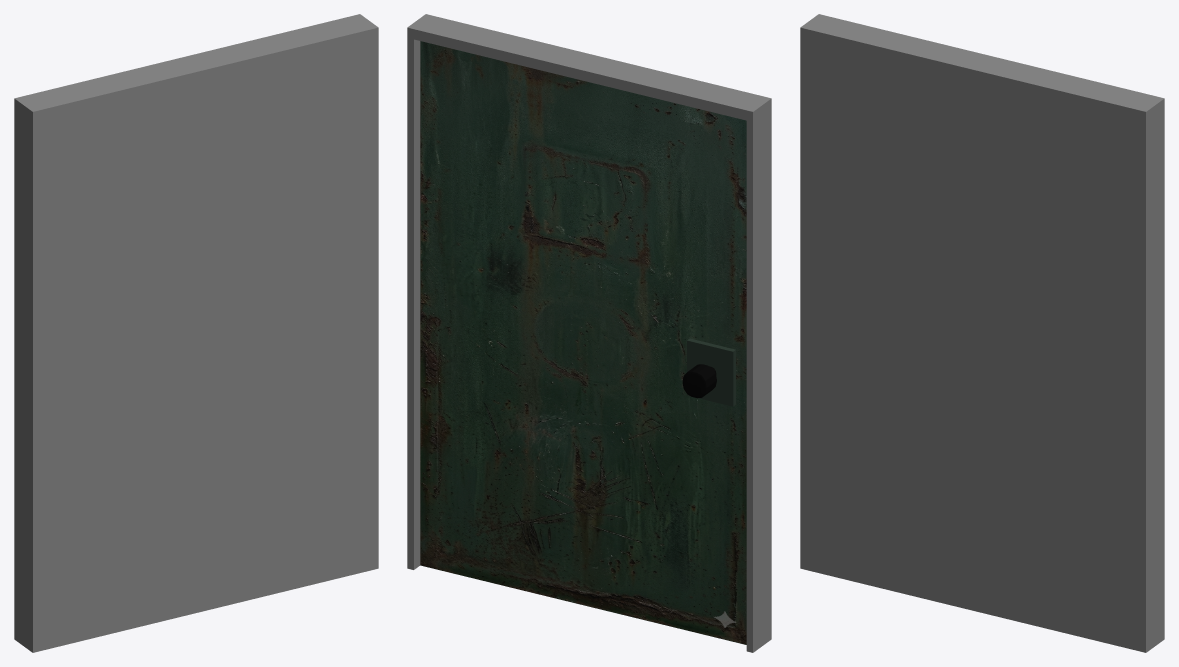
The model's file is Puerta.fbx.
3 renders of one model, left to right at view 1: azimuth 30°, elevation 25°; view 2: azimuth 150°, elevation 25°; view 3: azimuth 330°, elevation 25°, orthographic.
Parts seen in each view (by area): view 1: Door; view 2: Door; view 3: Door.
Part boxes in pixels (left/top/right/bottom): Door: left=14, top=14, right=378, bottom=652; Door: left=407, top=14, right=771, bottom=652; Door: left=800, top=14, right=1164, bottom=652.
Size of the model in its own units: 623 by 931 by 96.48.
Materials: 4 (1 with a texture image).
